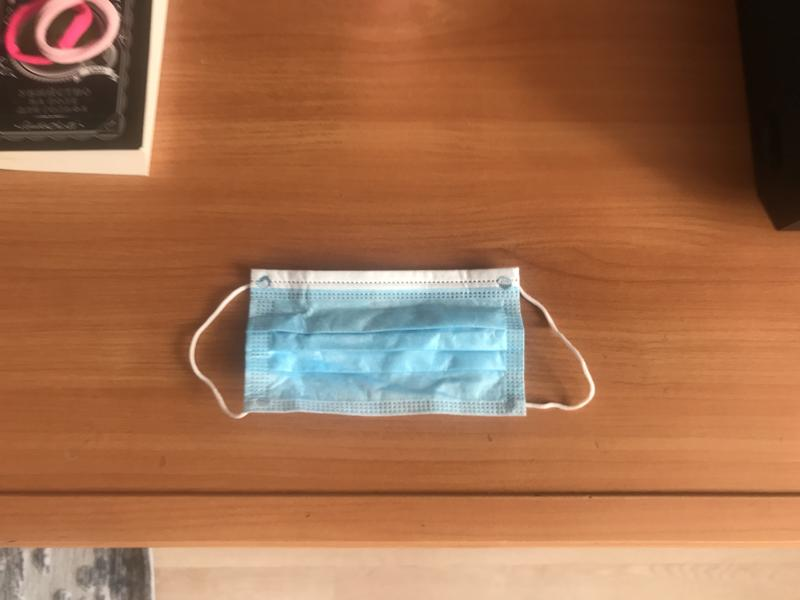medical_mask: (190, 264, 596, 421)
